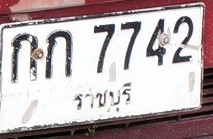txt01: (8, 31, 39, 87), (43, 28, 74, 82)
